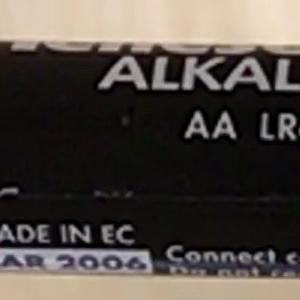keyword: (89, 47, 217, 99)
